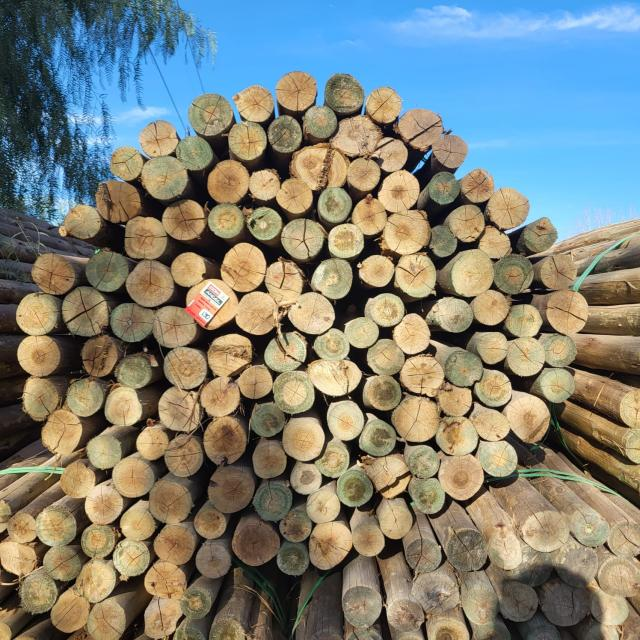package: (15, 74, 592, 572), (288, 511, 639, 640), (1, 493, 286, 640)
